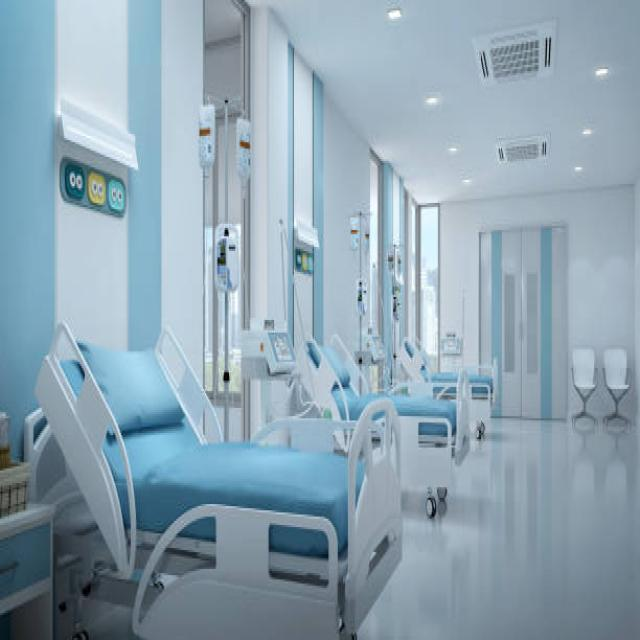Saline Stand: (189, 91, 268, 470)
bed: (23, 326, 403, 638), (299, 332, 469, 518), (400, 308, 500, 438)
